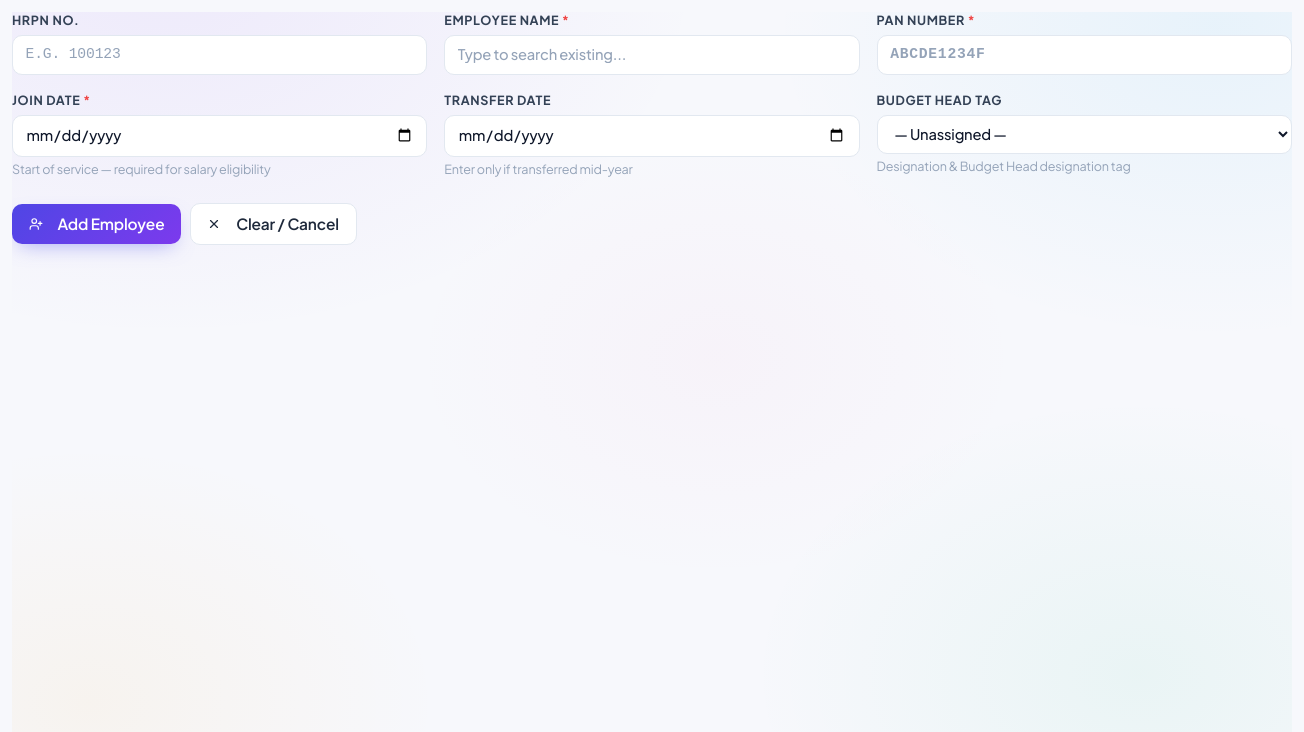
EmployeeForm name-search dropdown › loads the full existing record when a search result is selected
The width and height of the screenshot is (1304, 732).
Type "joh" into the field labelled "Employee Name *" at (652, 55), box x1=444 y1=35 x2=860 y2=75
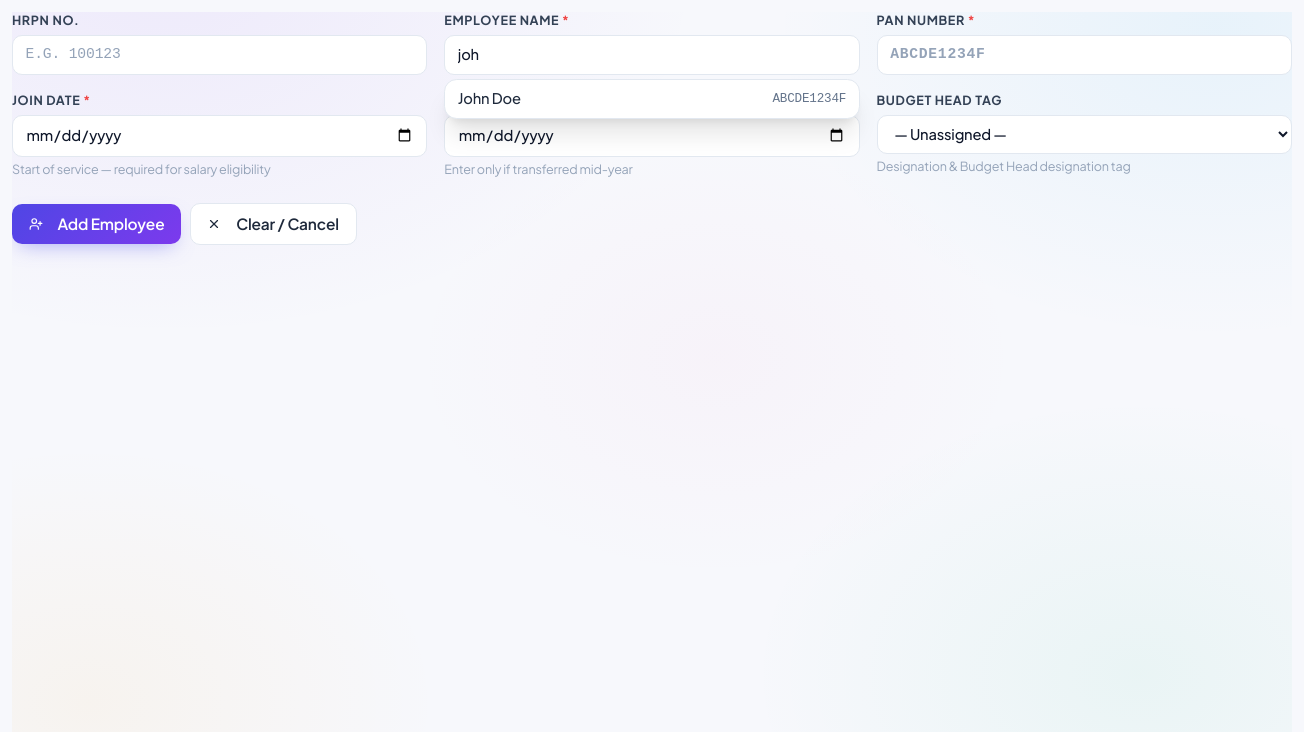
Click the button "John Doe ABCDE1234F" at (489, 98), box x1=445 y1=80 x2=859 y2=118
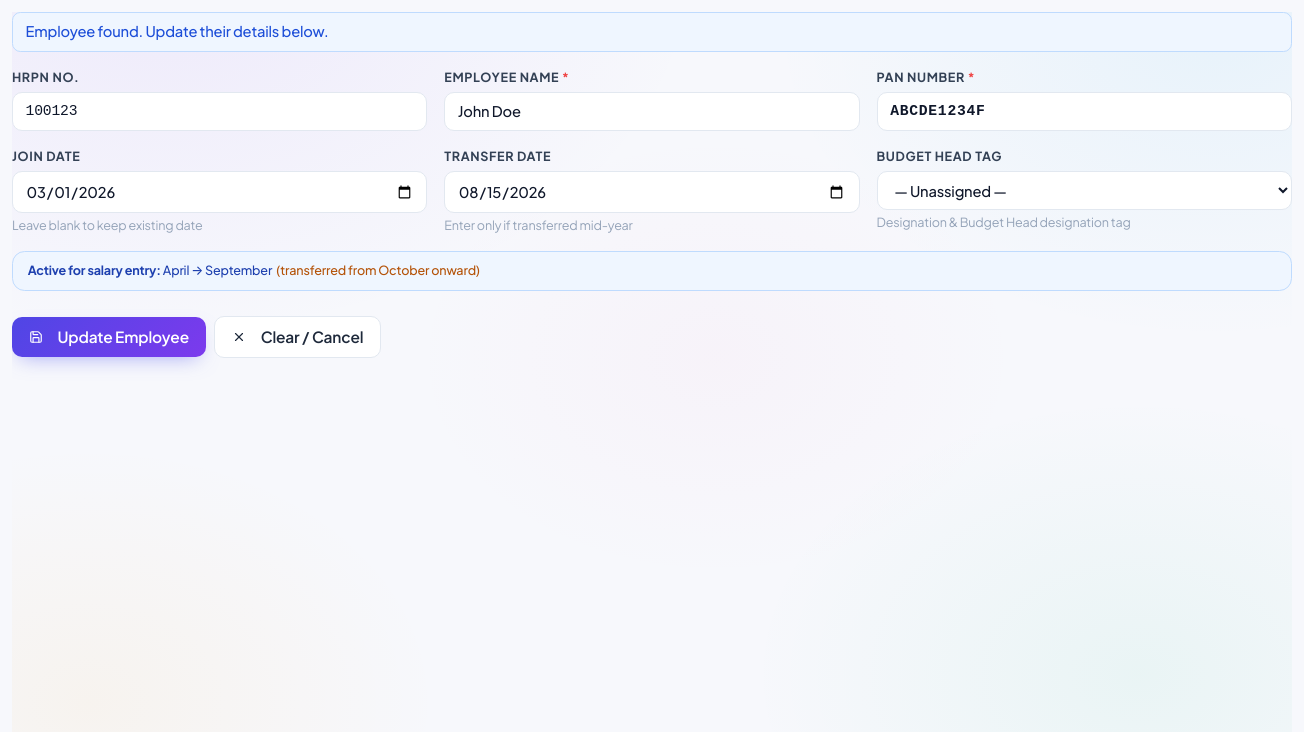
Now the field labelled "PAN Number *" holds "ABCDE1234F", box x1=876 y1=92 x2=1292 y2=132
Now the field labelled "Employee Name *" holds "John Doe", box x1=444 y1=92 x2=860 y2=132
Now the date field labelled "Join Date" holds "2026-03-01", box x1=12 y1=171 x2=428 y2=213
